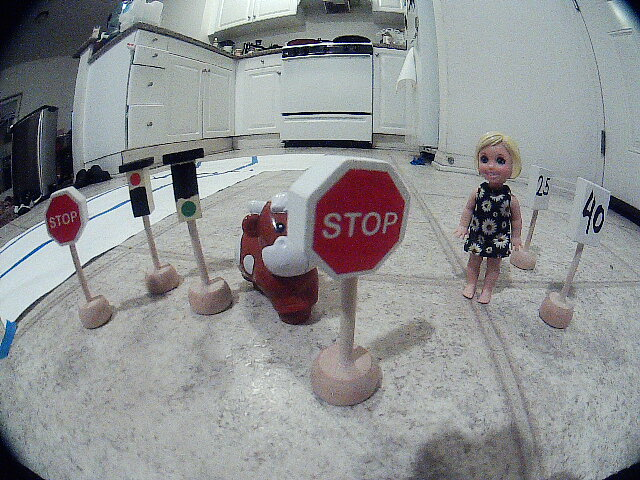Green Traffic Light: (156, 151, 224, 233)
Person: (448, 129, 524, 317)
Red Traffic Light: (112, 151, 158, 229)
Speed Limit 25: (531, 154, 564, 223)
Speed Limit 40: (575, 173, 628, 266)
Stop Sign: (294, 151, 418, 289), (31, 184, 102, 252)
